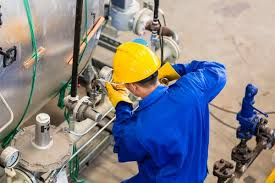Person_wearing_helmet: (109, 38, 160, 88)
